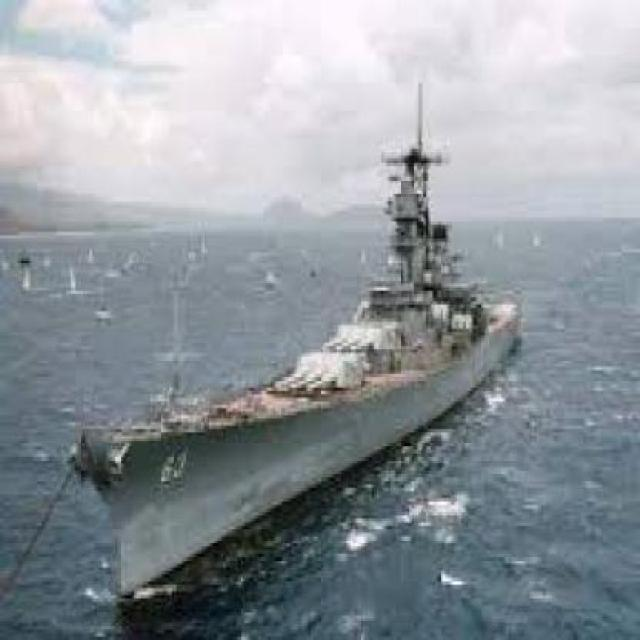warship2: (104, 112, 529, 627)
